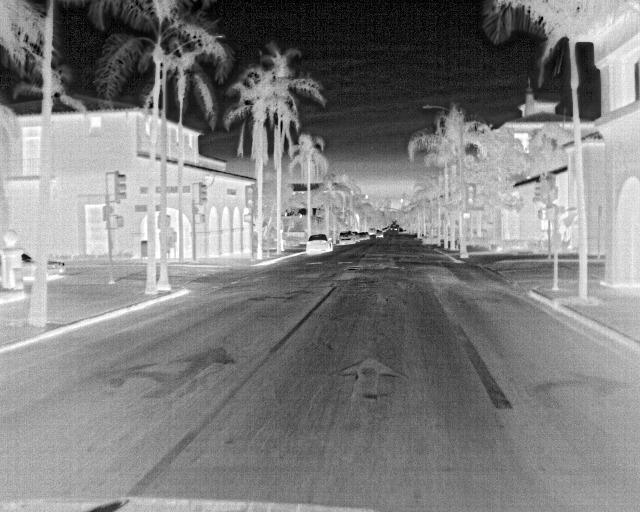car: (305, 235, 333, 256), (337, 230, 355, 244), (355, 232, 369, 241), (373, 229, 384, 239)
